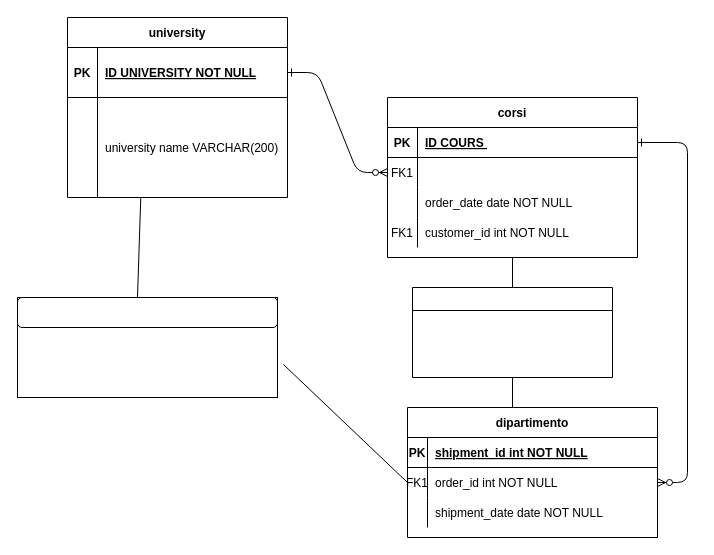
The diagram is 714 pixels wide and 555 high, and some of its shapes have lost their labels. Each missing label, with the centre of its shape:
"esami" belongs at [512,332].
"theacher" belongs at [147,312].
